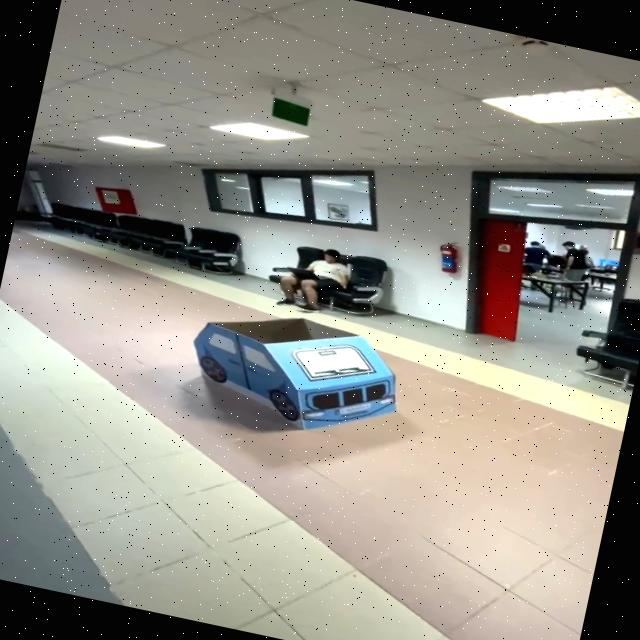blue_car: (152, 290, 436, 464)
